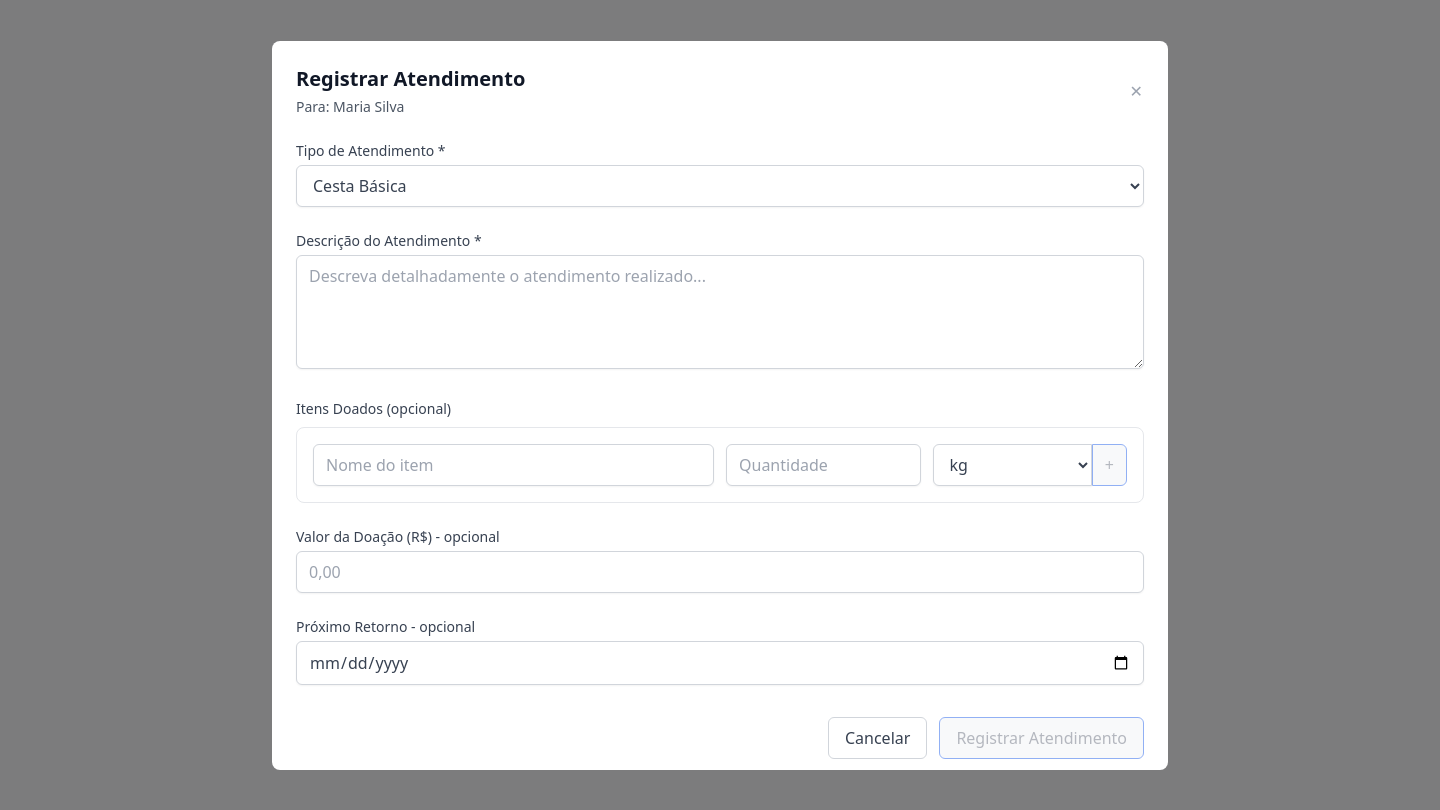
Test: AtendimentoModal › Itens doados functionality › should allow adding an item
Type "Arroz" into the field with placeholder "Nome do item" at (514, 464), box [313,444,714,486]
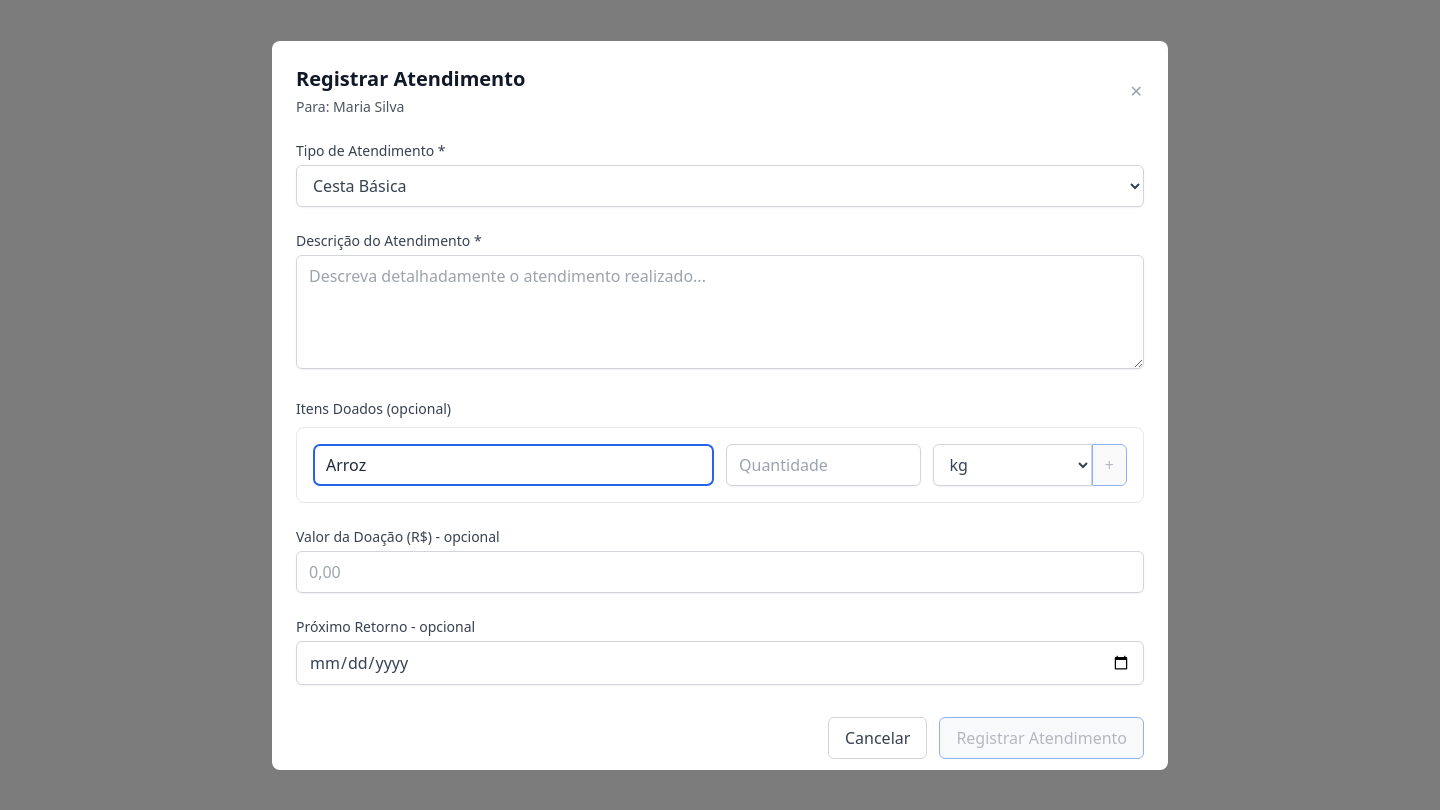
Type "5" into the number field with placeholder "Quantidade" at (823, 464), box [726,444,920,486]
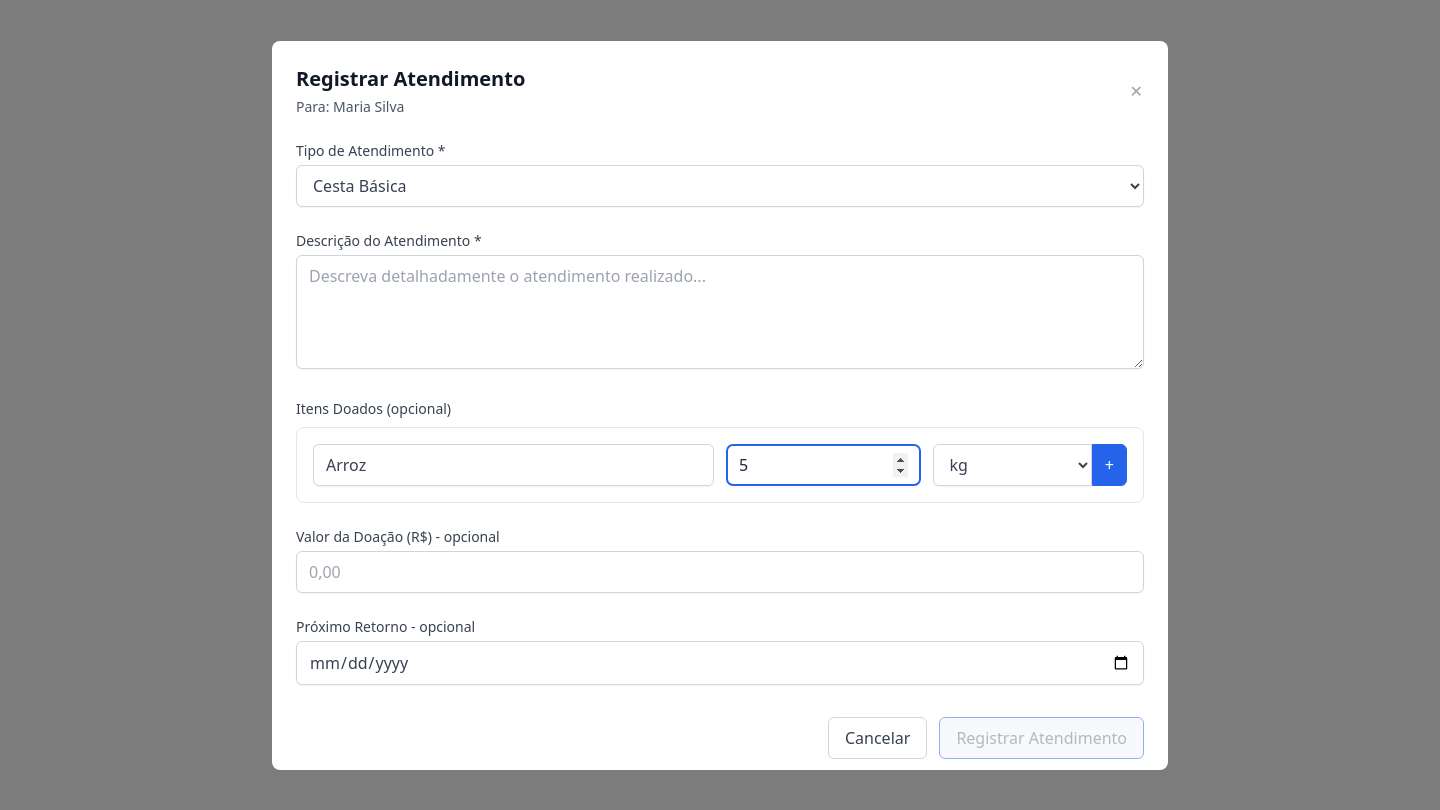
Click the button "+" at (1109, 464), box [1092,444,1127,486]
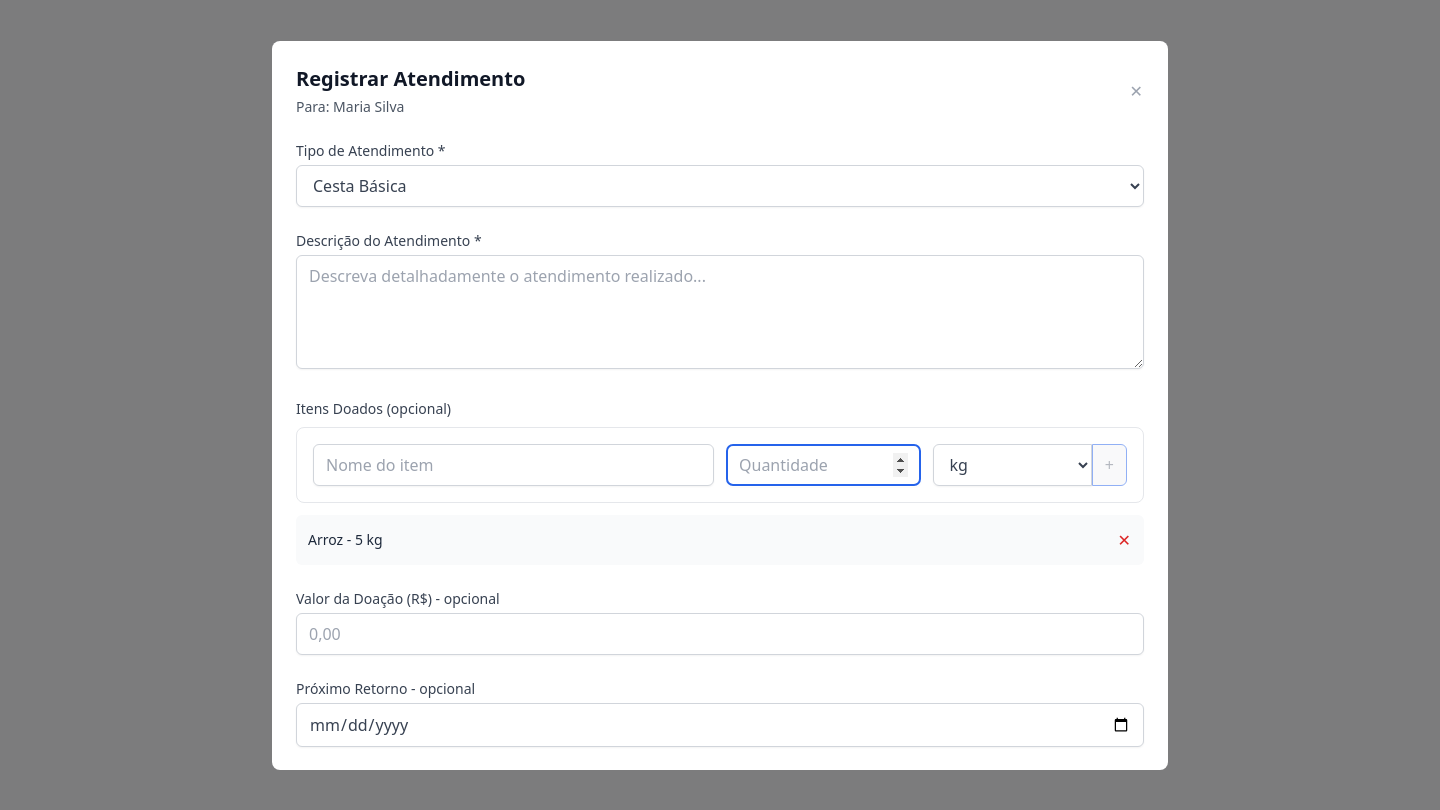
Result: the text "Arroz - 5 kg" is shown at [308,530,383,550]
